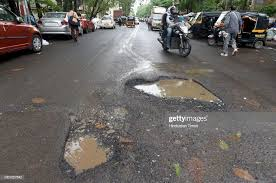potholes: (68, 49, 229, 183)
